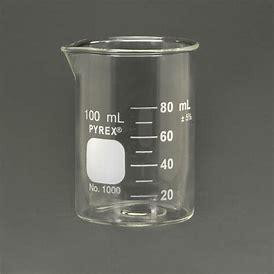Beaker: (57, 29, 230, 226)
